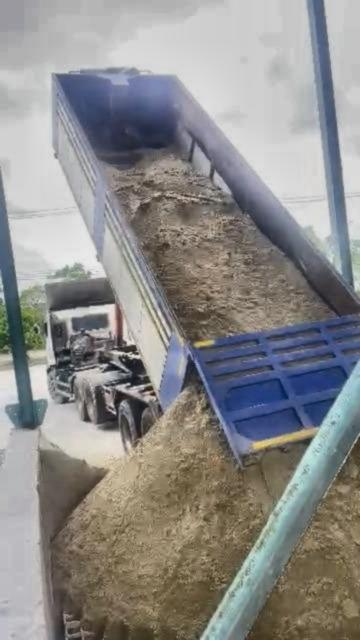sand: (53, 389, 304, 639), (107, 150, 333, 340), (252, 449, 360, 639), (41, 441, 119, 537)
